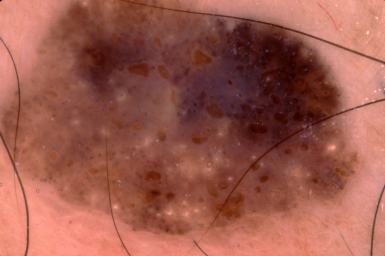seborrheic keratosis: (26, 5, 357, 228)
